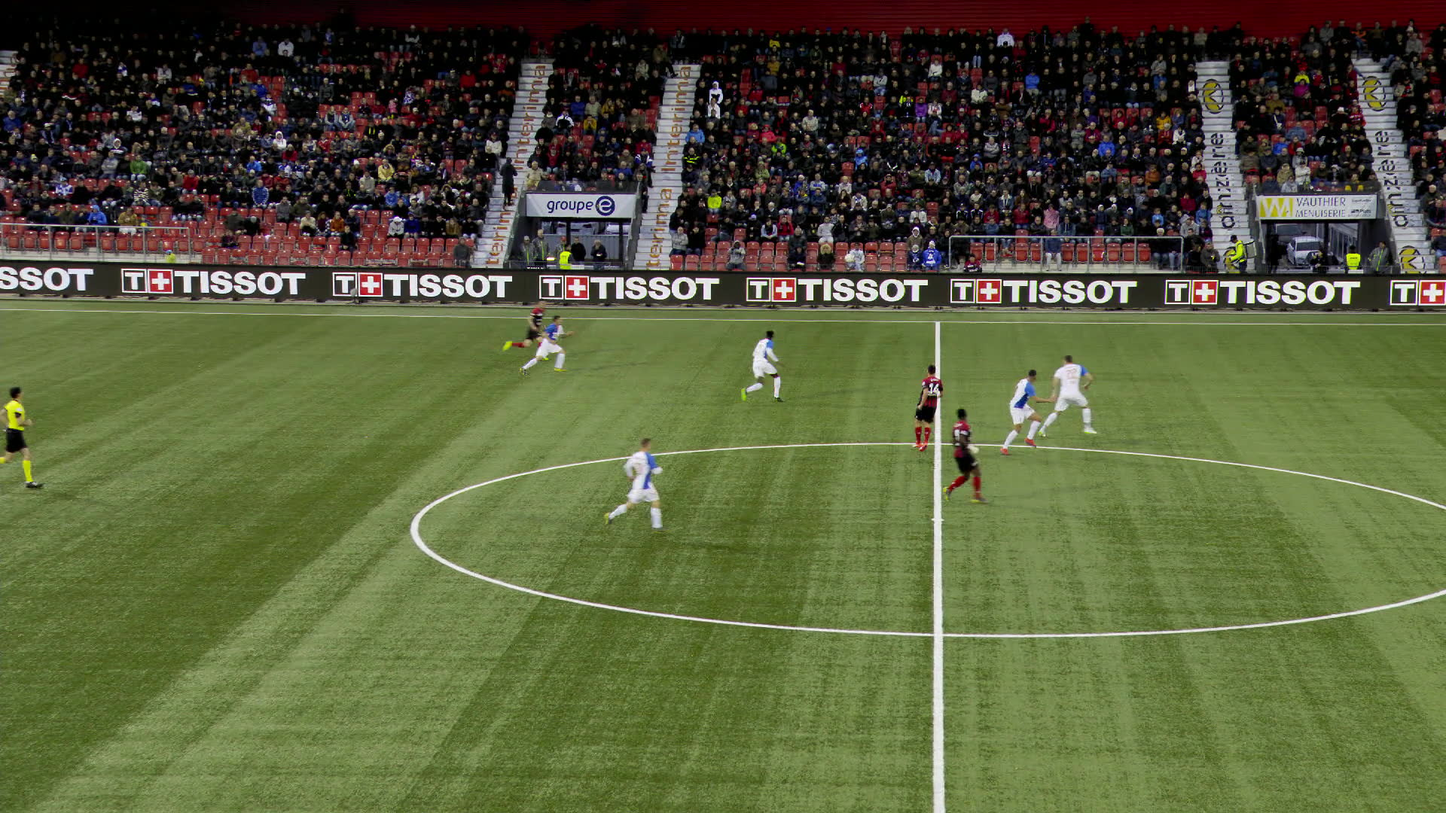ball: (849, 251, 858, 260)
player: (606, 440, 660, 534), (1001, 369, 1045, 452), (1043, 356, 1082, 437), (739, 330, 780, 405), (945, 410, 975, 501), (500, 299, 542, 359), (914, 363, 942, 449), (528, 314, 564, 375)
referee: (3, 386, 36, 486)
